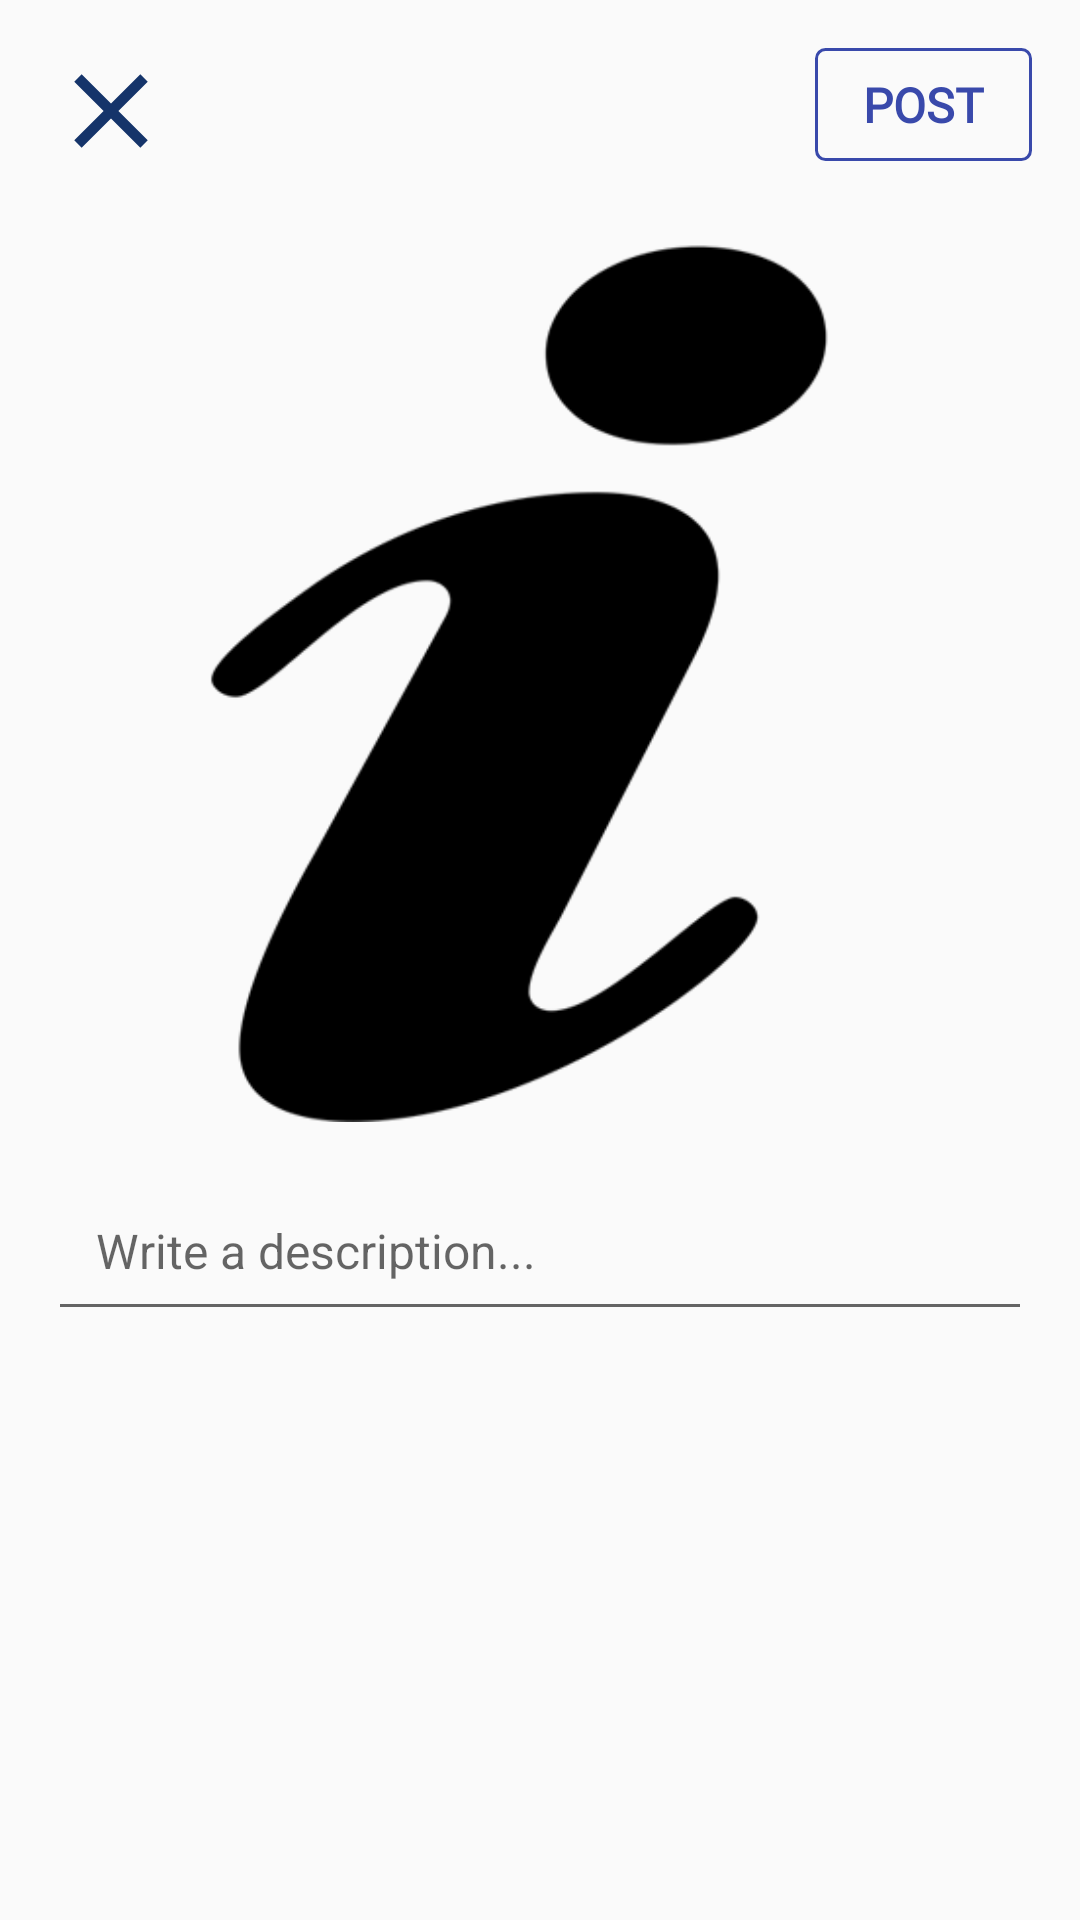

Icons on this 1080×1920 Android screen, each with its box as BBox(x1, y1, x2, y2):
close: BBox(74, 74, 148, 148)
